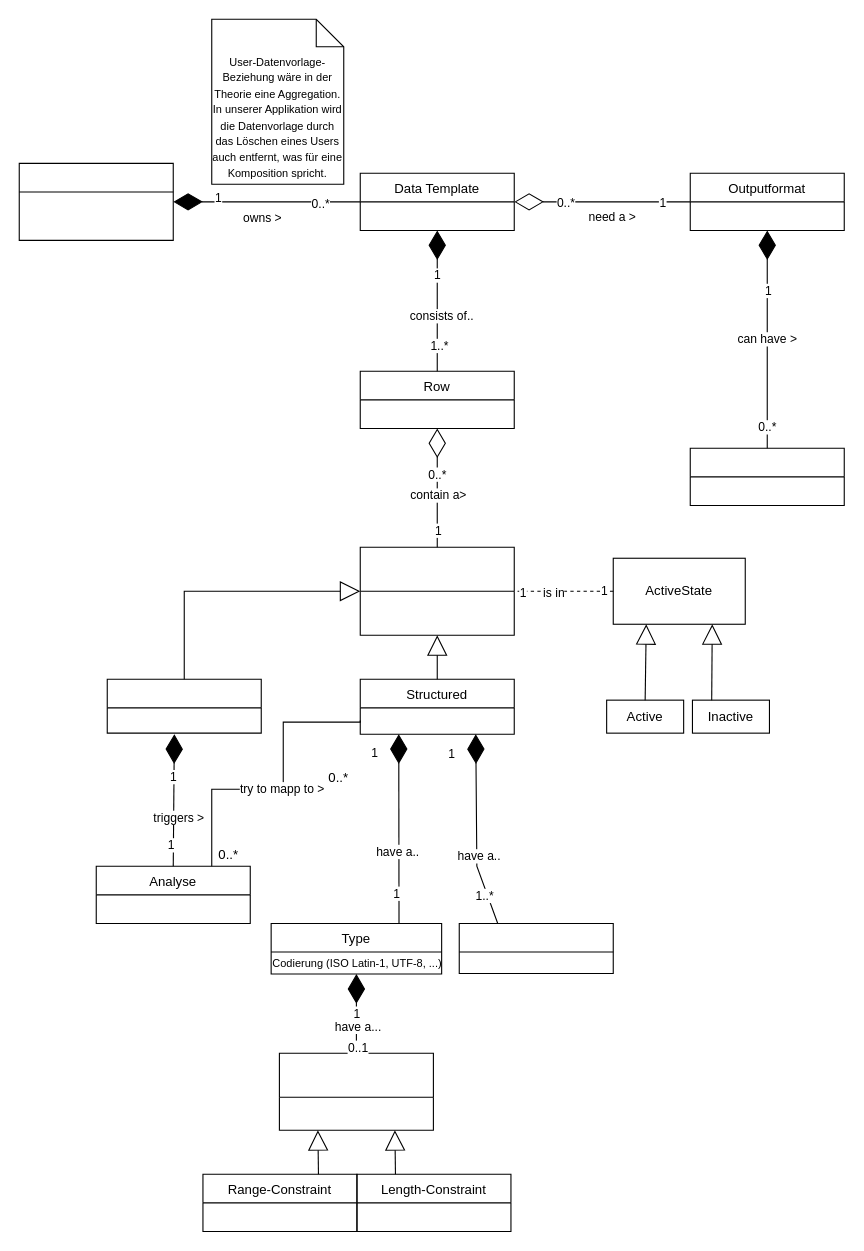
The diagram is 864 pixels wide and 1251 high, and some of its shapes have lost their labels. The centre of each missing label's shape, as x and y in pixels:
BusinessConstraint: the point at 535,948
Constraint: the point at 355,1091
Data Format: the point at 436,590
Optionen: the point at 766,476
Unstructured: the point at 183,705
User: the point at 95,201
